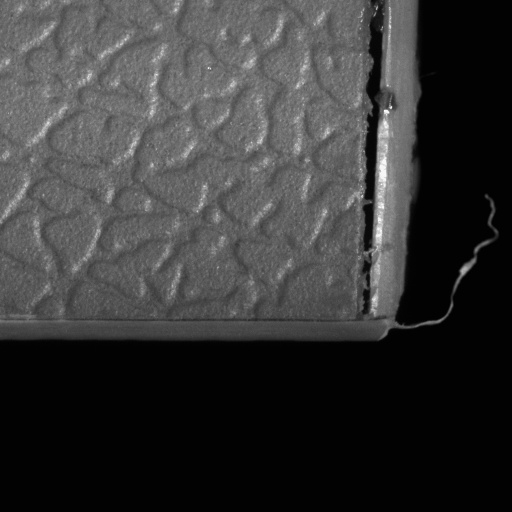kaijiao: (355, 3, 420, 349)
